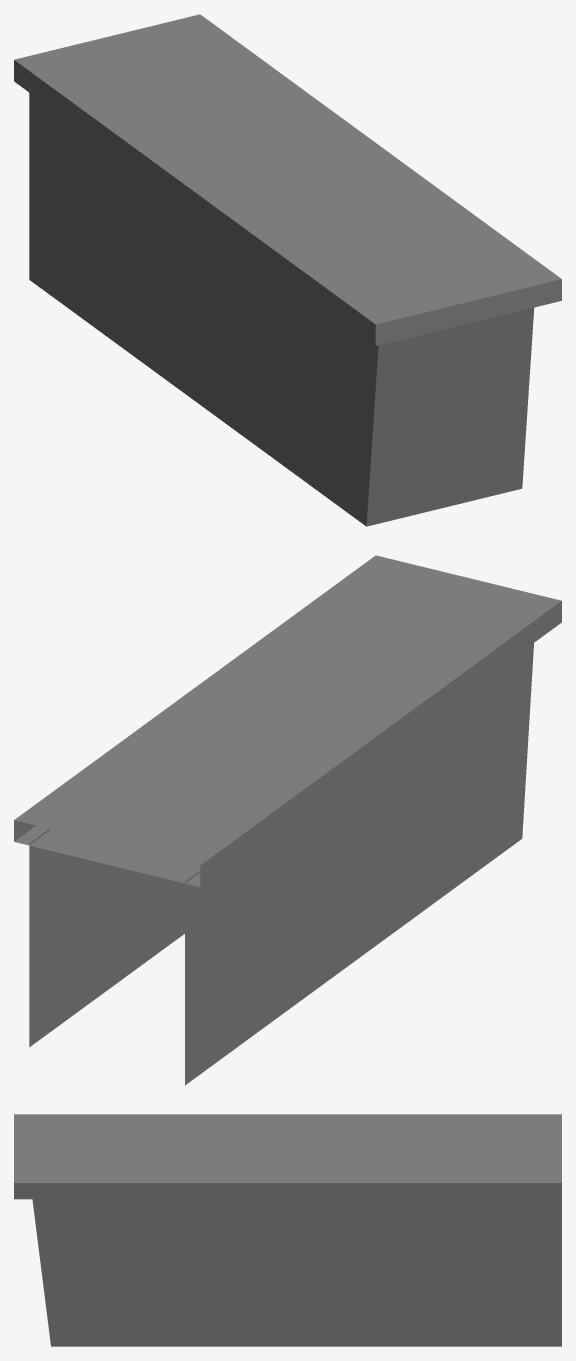
Rendered from  Rectal (Steps Platform 2).fbx.
The picture shows the model from 3 angles, top to bottom: view 1: azimuth 30°, elevation 25°; view 2: azimuth 150°, elevation 25°; view 3: azimuth 270°, elevation 25°; orthographic projection. The views are drawn at different scales.
Parts seen in each view (by area): view 1: Rectal (Steps Platform 2); view 2: Rectal (Steps Platform 2); view 3: Rectal (Steps Platform 2).
Part boxes in pixels (x1,y1,x2,y2): Rectal (Steps Platform 2): (14,14,561,526); Rectal (Steps Platform 2): (14,555,561,1085); Rectal (Steps Platform 2): (14,1114,561,1346).
Size of the model in its own units: 158 by 181 by 531.
